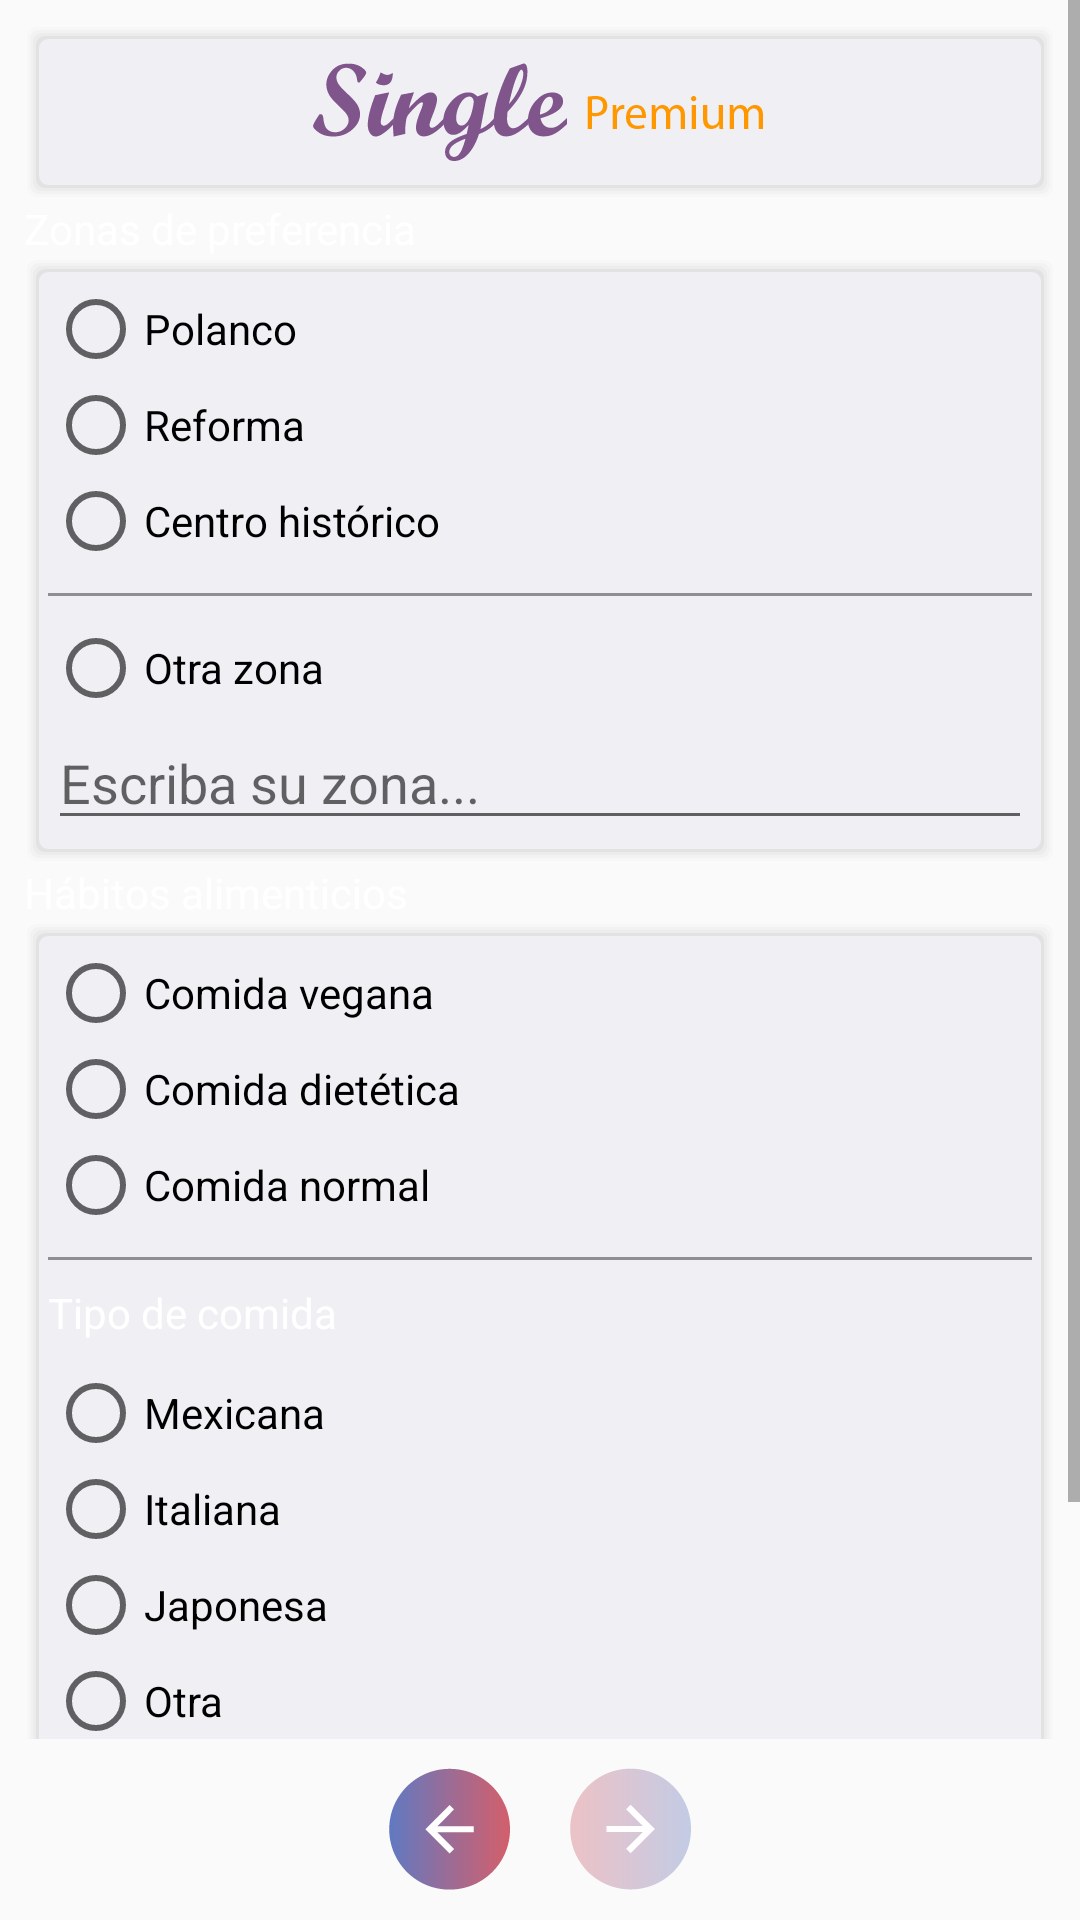

Icon bounding boxes for this 1080w x 1920h phone screenshot, format (x1=x1, y1=y1, x2=x2, y2=y2):
next: (x1=570, y1=1769, x2=691, y2=1890)
